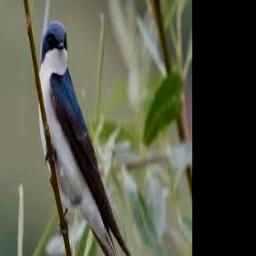Swallow: (38, 20, 134, 256)
